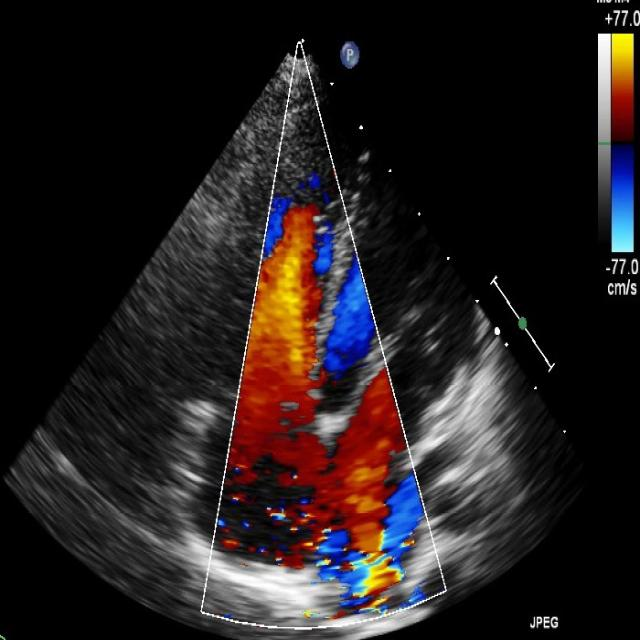ASDType2: (223, 406, 424, 615)
